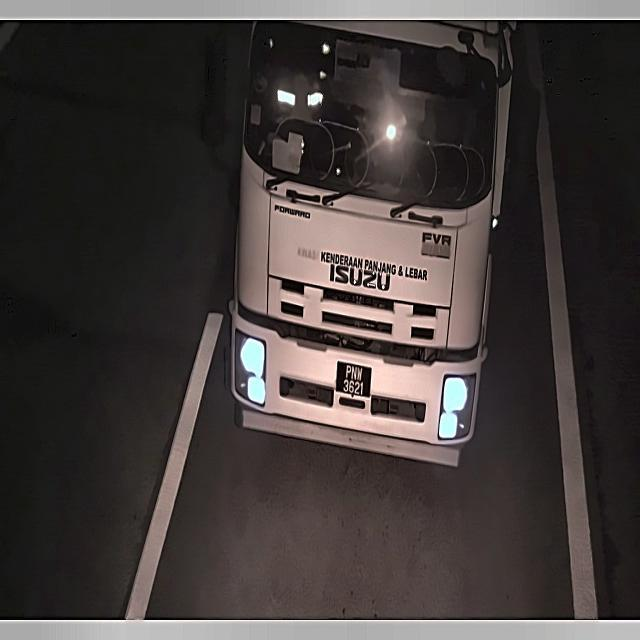car: (336, 362, 371, 398)
